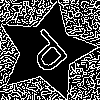P: (21, 26, 78, 83)
